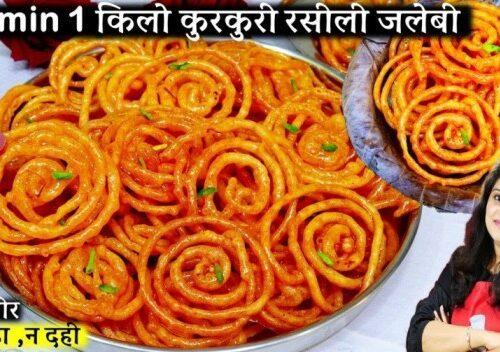jalebi: (7, 36, 362, 342), (375, 0, 500, 215)
